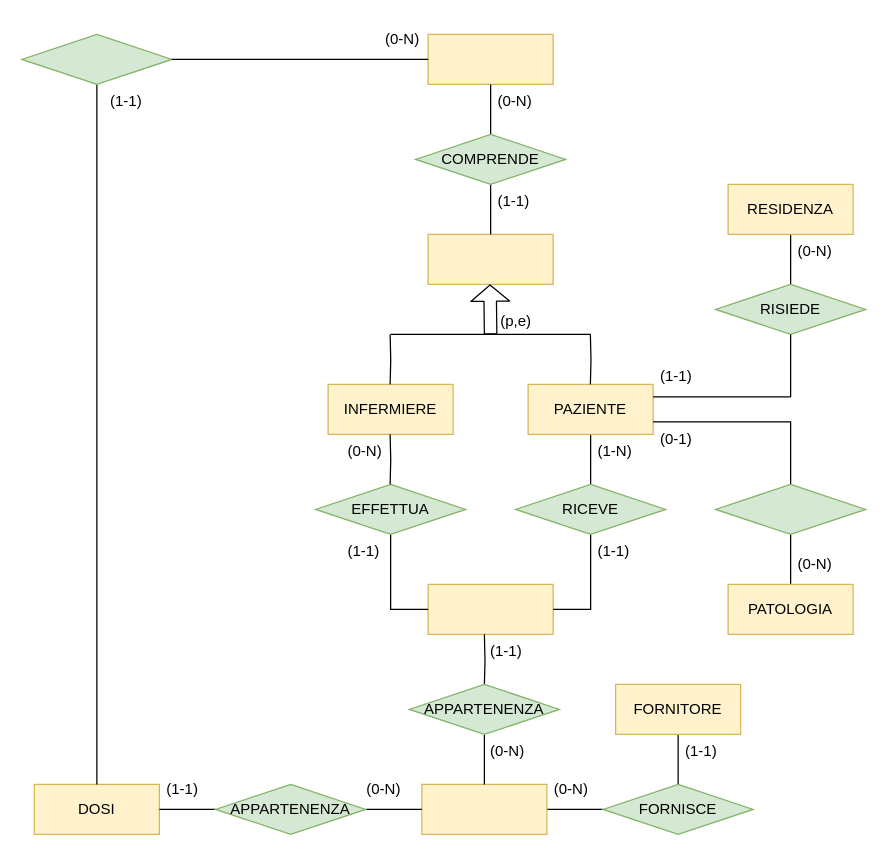
This 888x856 diagram has some shape labels left out. Each missing label, with the centre of its shape:
"GIACENZA" goes at (96,58).
"OSPEDALE" goes at (490,58).
"PERSONA" goes at (490,258).
"POSSIEDE" goes at (790,508).
"VACCINAZIONE" goes at (490,608).
"VACCINO" goes at (484,808).
